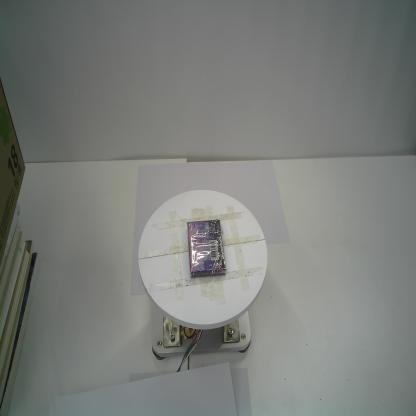Gum: (187, 220, 226, 277)
